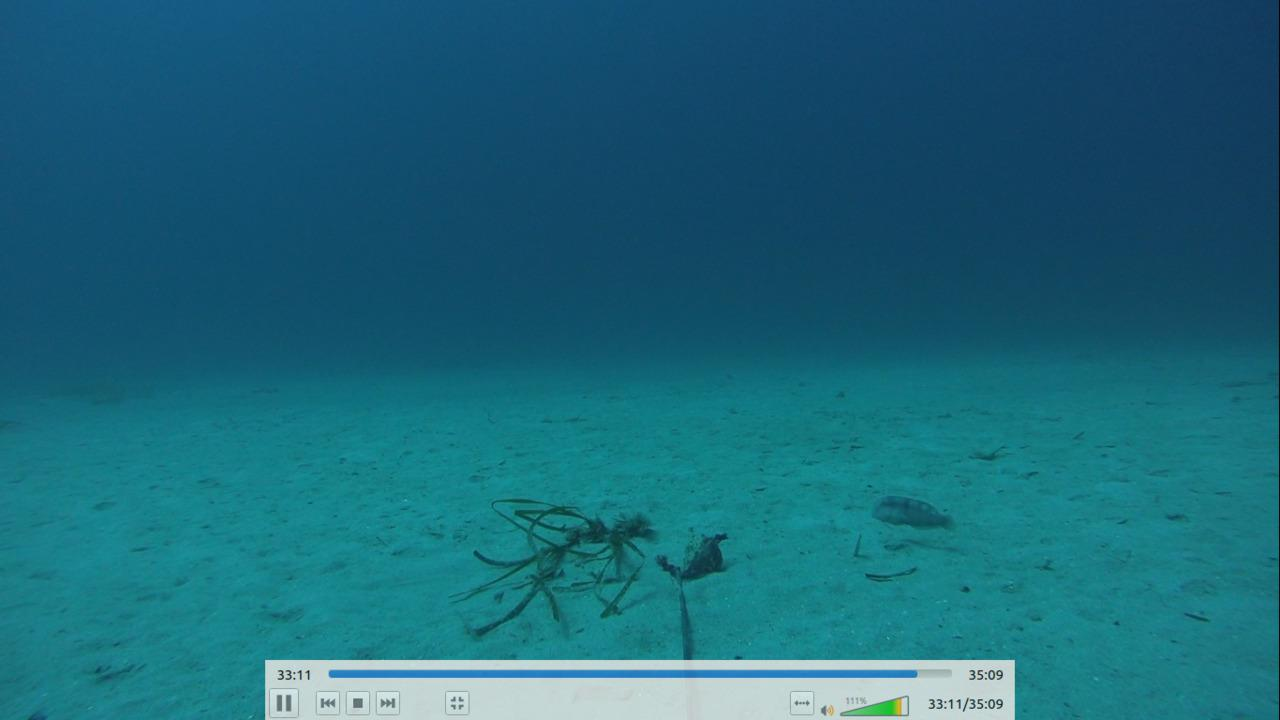raor: (862, 479, 955, 537)
